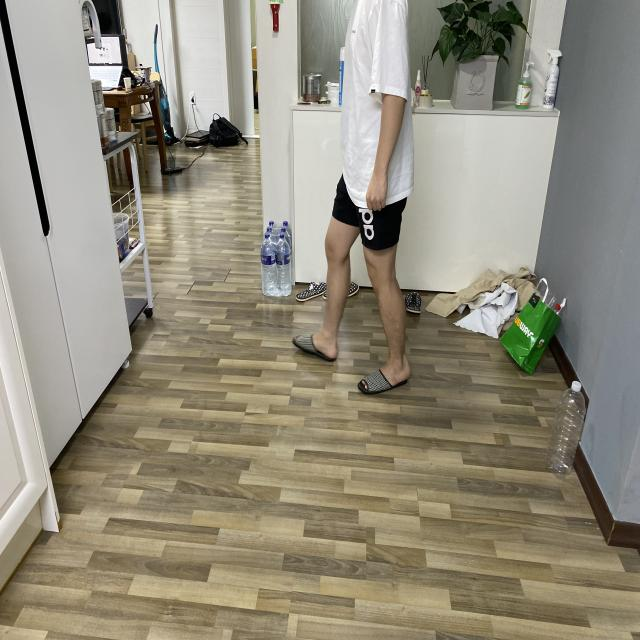no-boots: (285, 319, 349, 379), (357, 357, 420, 405)
